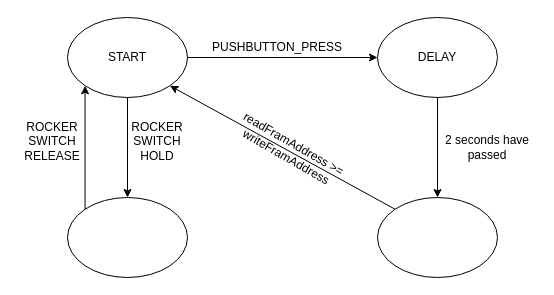
Some shapes in this 554 by 295 pixel diagram are drawn without their labels. Here are the shapes that lost their labels. From the top down, the box of each, then its label:
(66, 196, 188, 278): RECORD
(376, 196, 498, 278): PLAYBA CK
